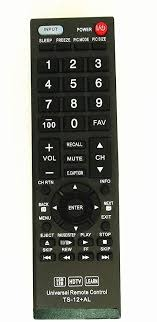remote control: (26, 18, 124, 318)
